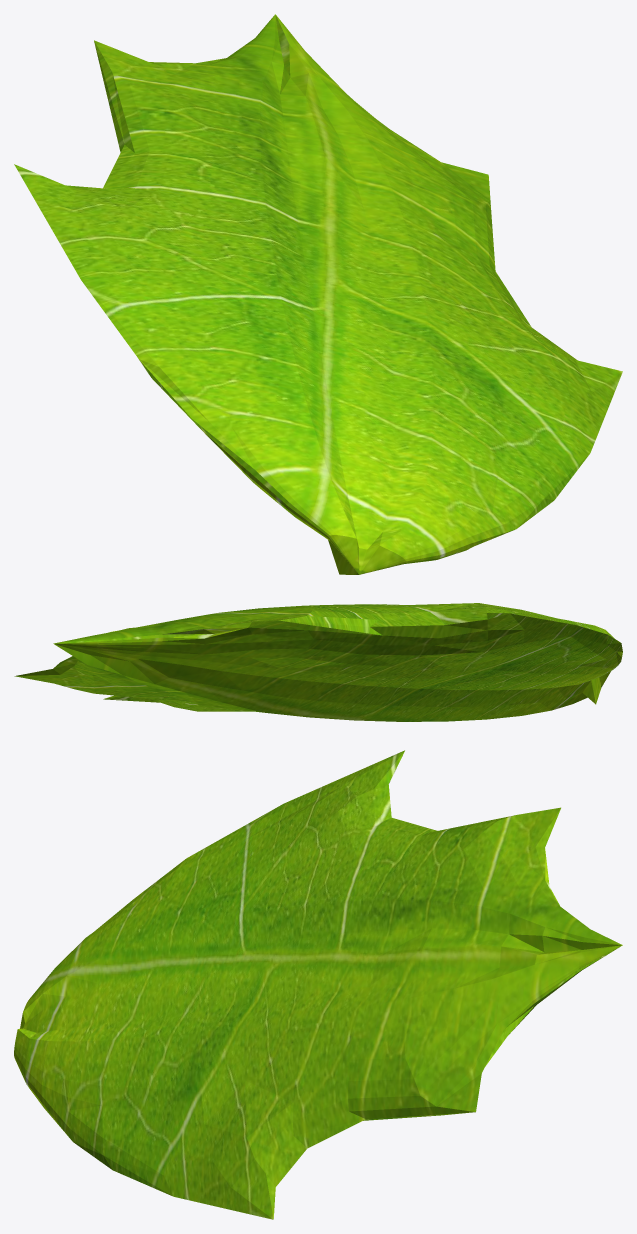
File: piranha plant_hoja.obj
The picture shows the model from 3 angles, top to bottom: view 1: azimuth 30°, elevation 25°; view 2: azimuth 150°, elevation 25°; view 3: azimuth 270°, elevation 25°; orthographic projection. The views are drawn at different scales.
Parts seen in each view (by area): view 1: Esfera.003; view 2: Esfera.003; view 3: Esfera.003.
Boxes of the visible parts, box(x1,y1,x2,y2) form: Esfera.003: box(14, 14, 622, 574); Esfera.003: box(14, 603, 622, 721); Esfera.003: box(14, 750, 622, 1219).
Bounding box in the file's own units: 0.2857 × 0.1642 × 0.3241.
1 material, 1 textured.
